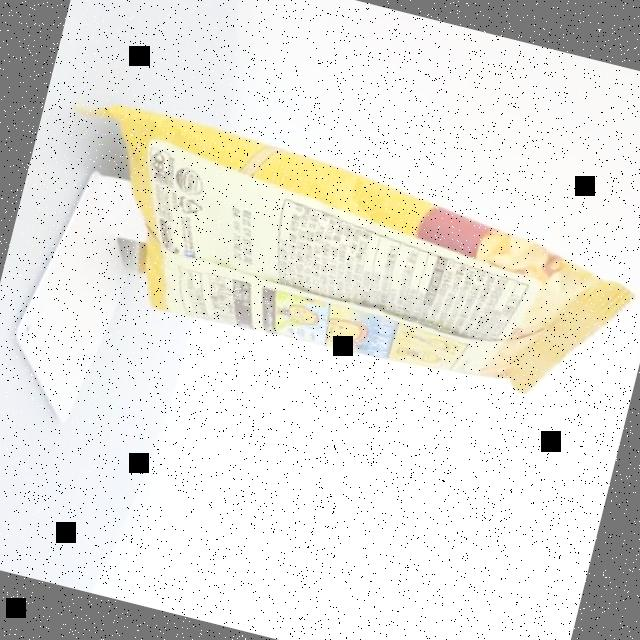snack_bag: (20, 67, 640, 436)
